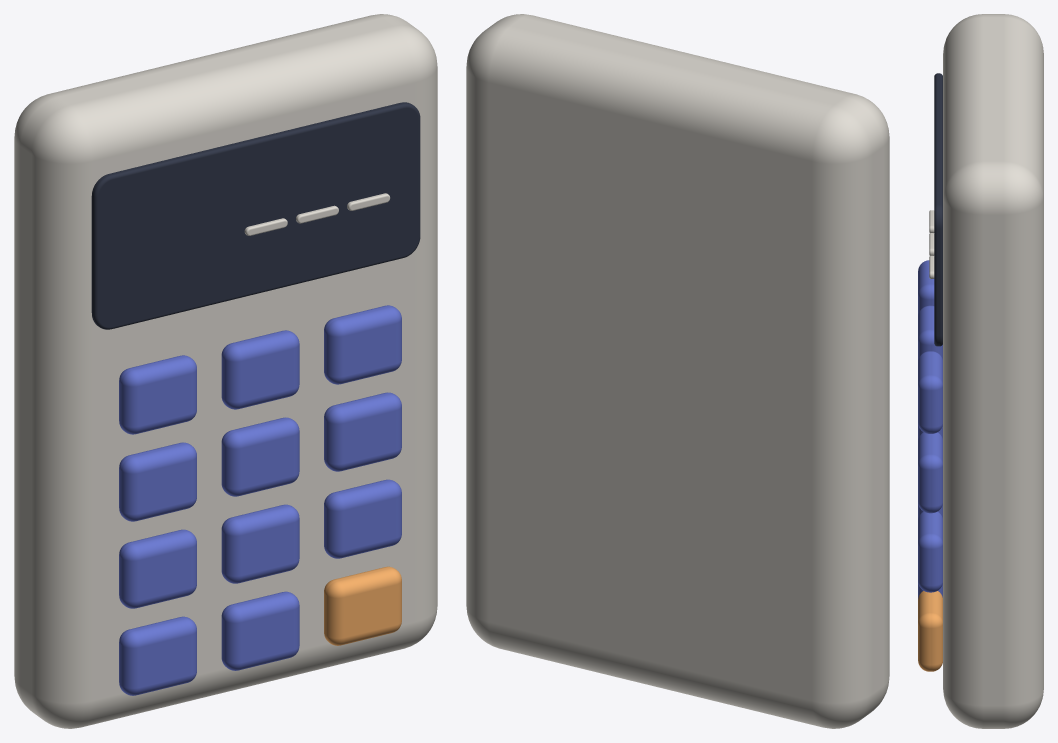
Rendered from calculator.glb.
3 renders of one model, left to right at view 1: azimuth 30°, elevation 25°; view 2: azimuth 150°, elevation 25°; view 3: azimuth 270°, elevation 25°, orthographic. The views are drawn at different scales.
Visible parts, largest first — view 1: calculator; view 2: calculator; view 3: calculator.
Boxes of the visible parts, bbox=[...] form: calculator: bbox=[14, 14, 437, 728]; calculator: bbox=[466, 14, 889, 728]; calculator: bbox=[918, 14, 1043, 728].
Size of the model in its own units: 1.25 by 1.85 by 0.3745.
